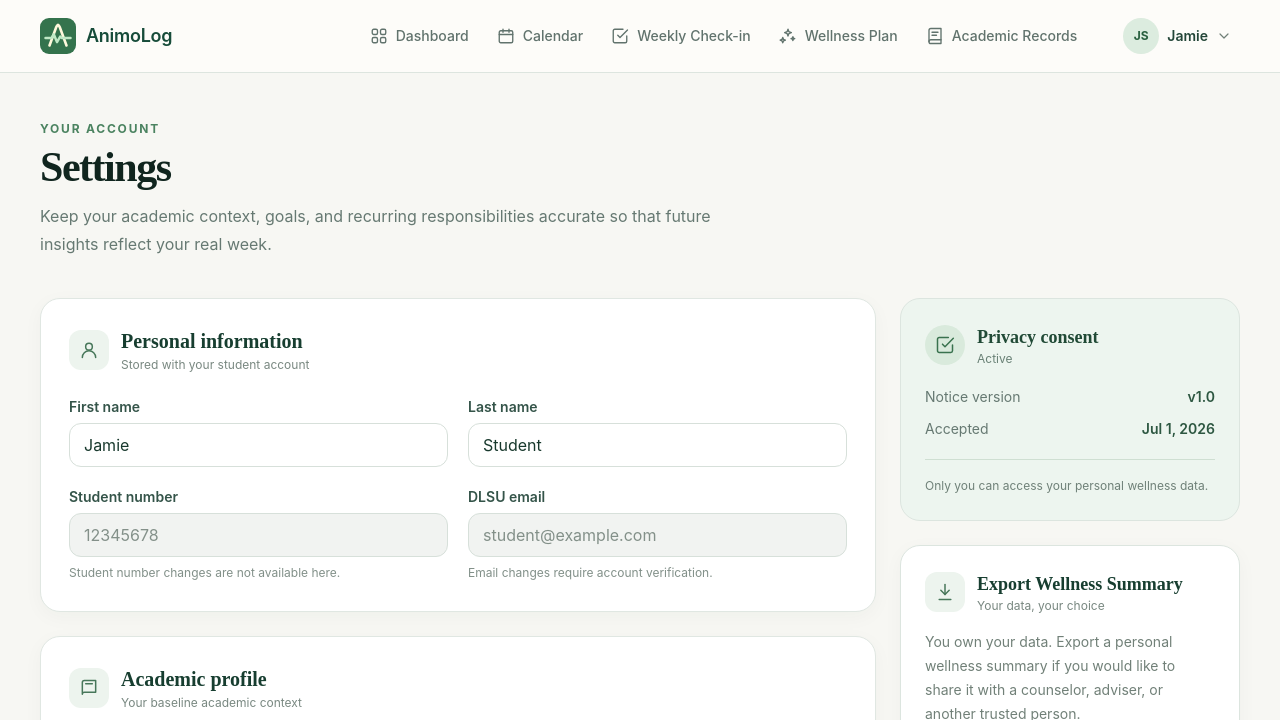
Test case: Settings backend data › normalizes and saves names and editable profile fields
This screenshot has width=1280, height=720.
Replace the text in the field labelled "First name" with "Janet" at (258, 445), box [69,423,448,467]
(page scrolled)
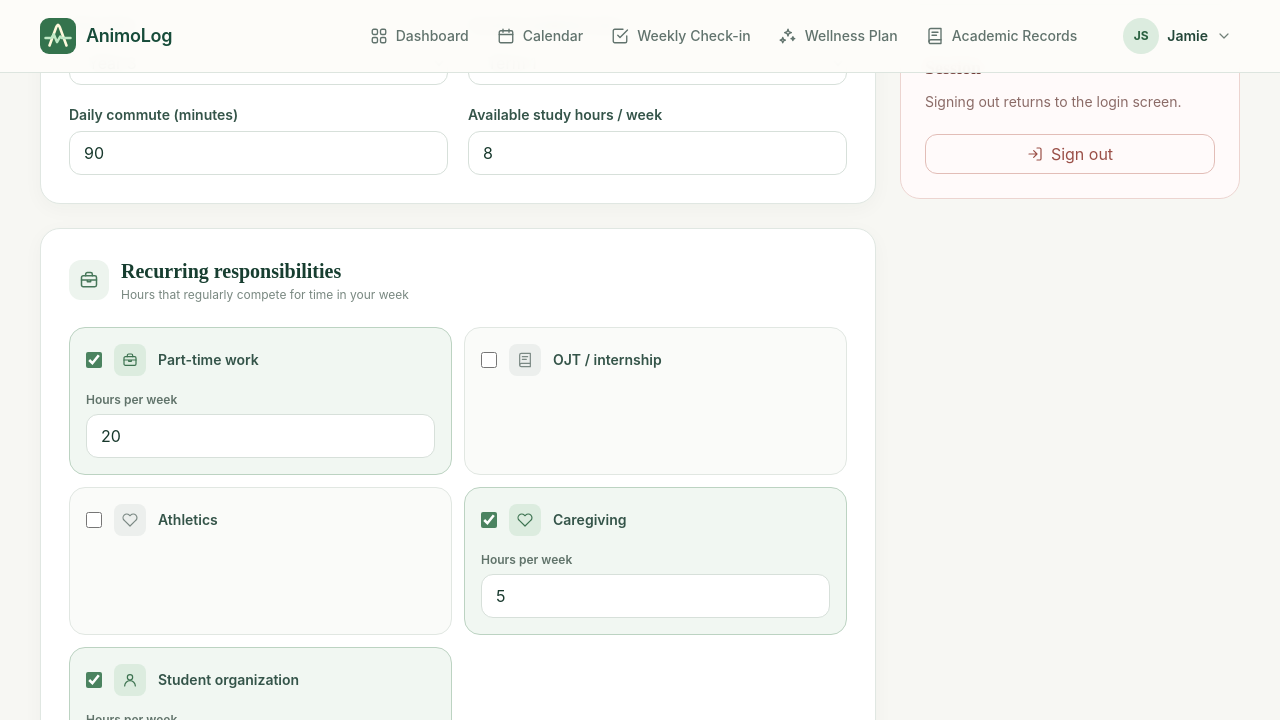
Click the checkbox labelled "Part-time work" at (94, 360), box [86,352,102,368]
(page scrolled)
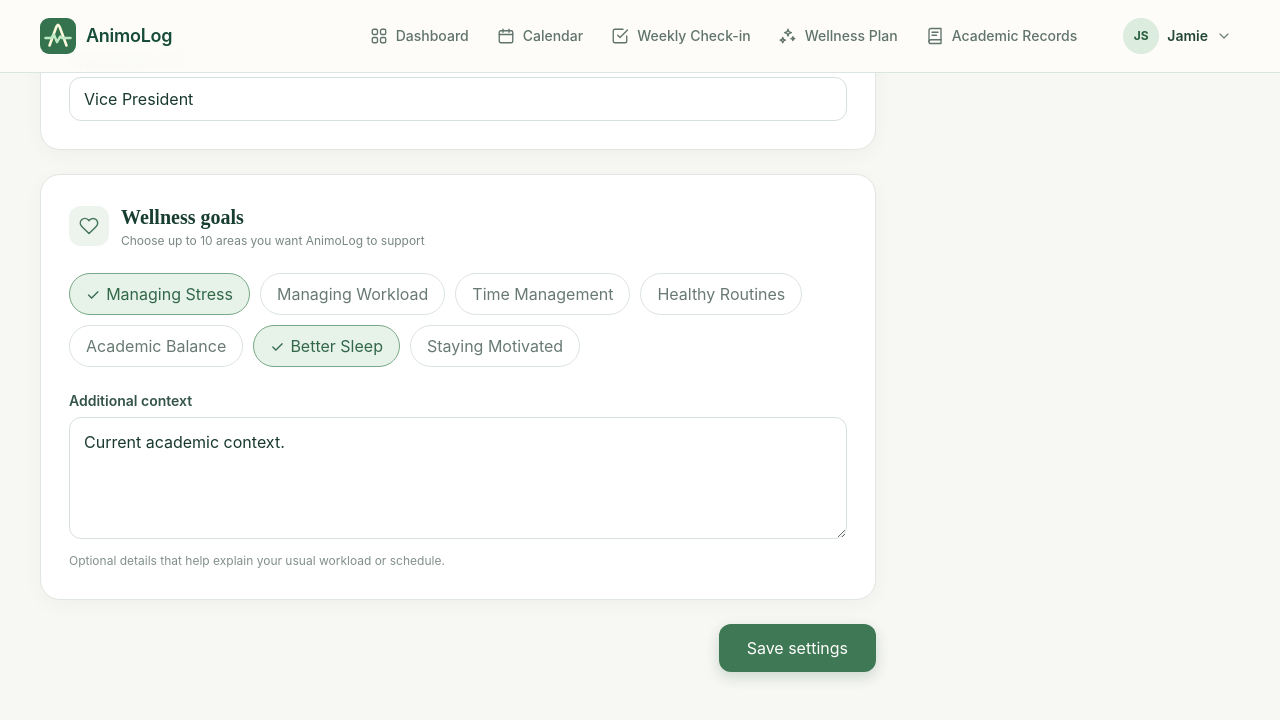
Click the button "Save settings" at (797, 648), box [719,624,876,672]
(page scrolled)
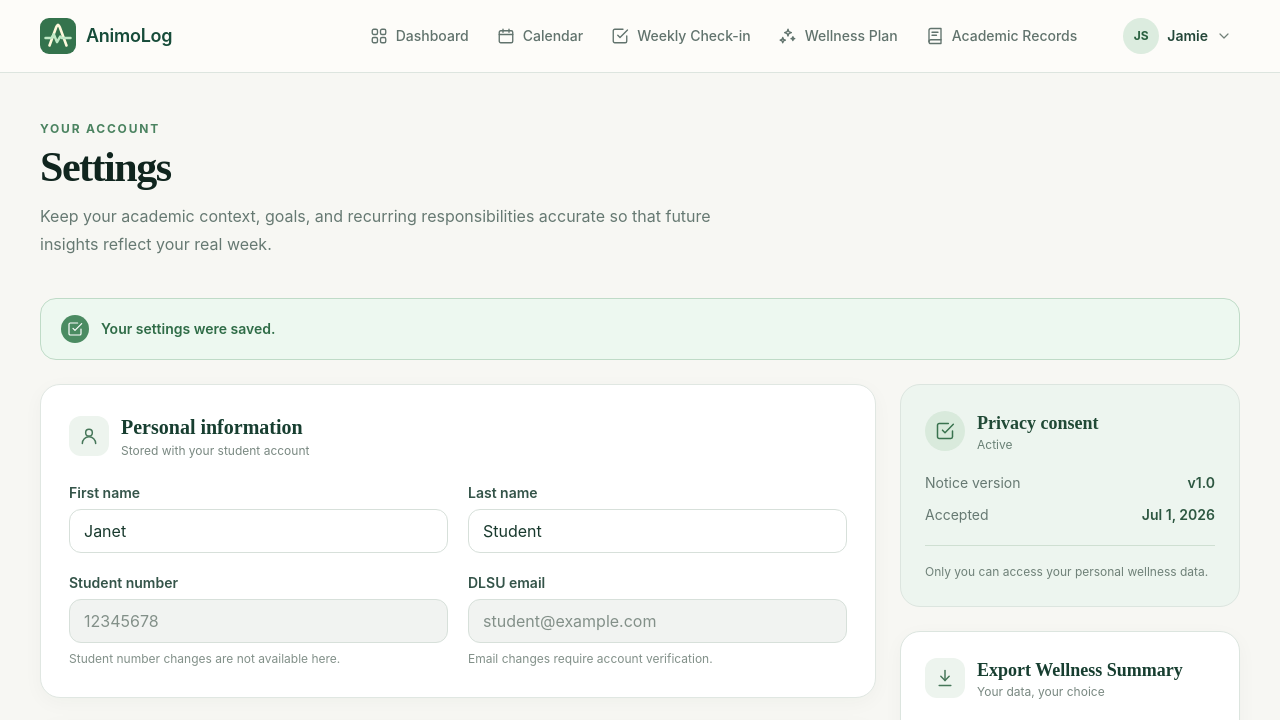
Check: the text "Your settings were saved." is shown, box [40,298,1240,360]
